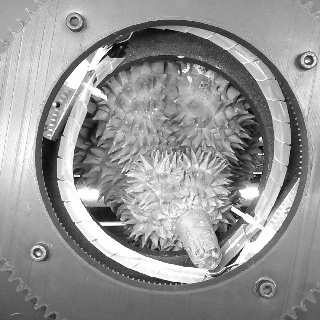base: (167, 202, 205, 242)
end: (193, 248, 223, 271)
